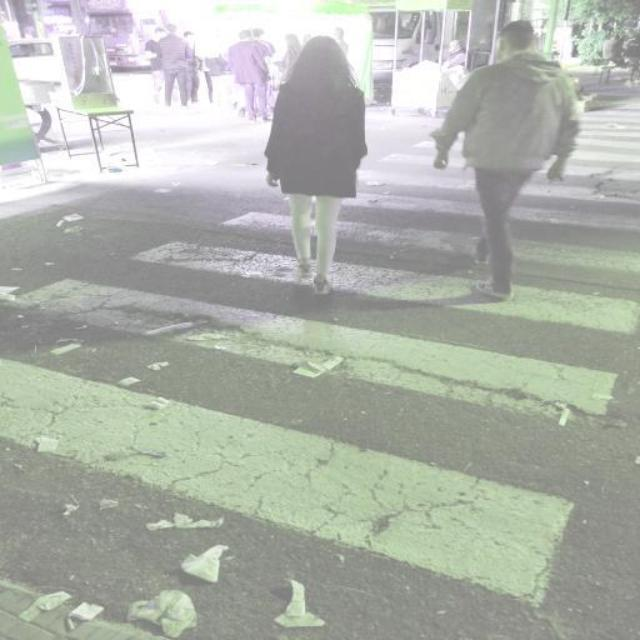sidewalk: (0, 112, 640, 640)
